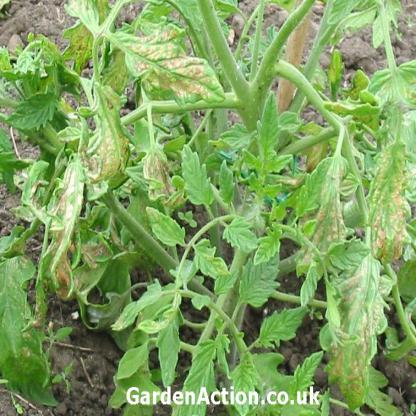tomato leaf mosaic virus: (239, 239, 281, 309), (114, 274, 161, 333), (290, 158, 331, 225), (8, 83, 57, 135), (255, 307, 308, 352), (181, 144, 215, 206), (157, 307, 182, 383), (259, 85, 280, 170), (146, 205, 185, 249), (288, 348, 322, 394), (321, 237, 369, 268), (193, 242, 228, 284), (225, 218, 258, 255)
